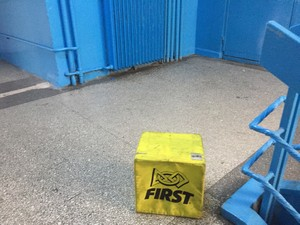cube: (132, 132, 207, 220)
